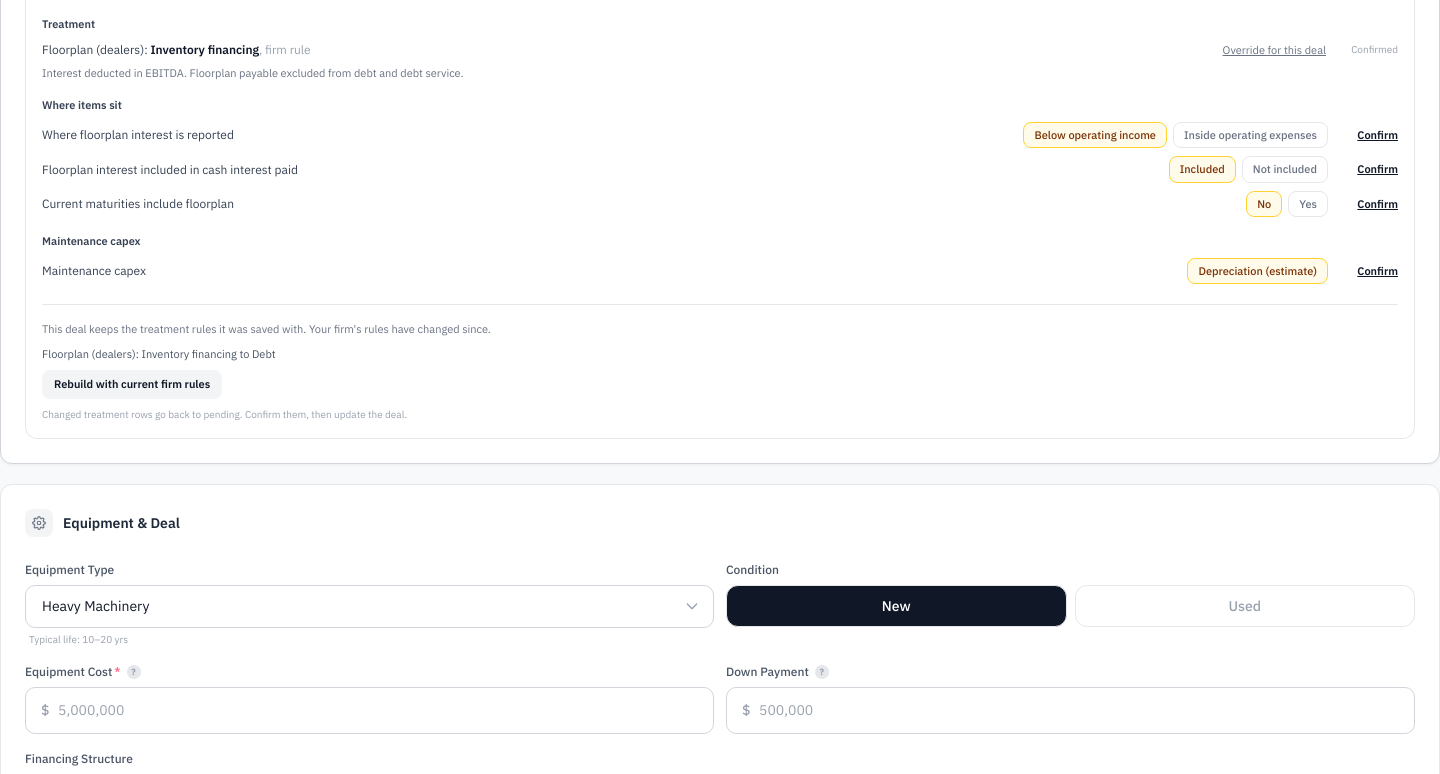
Test: judgments on the statement build › firm rules changed since the deal was saved › rebuild takes the new rules and puts the changed row back to pending
The image size is (1440, 774).
(page scrolled)
Click the button "Rebuild with current firm rules".
click(132, 385)  # box [42,370,222,399]
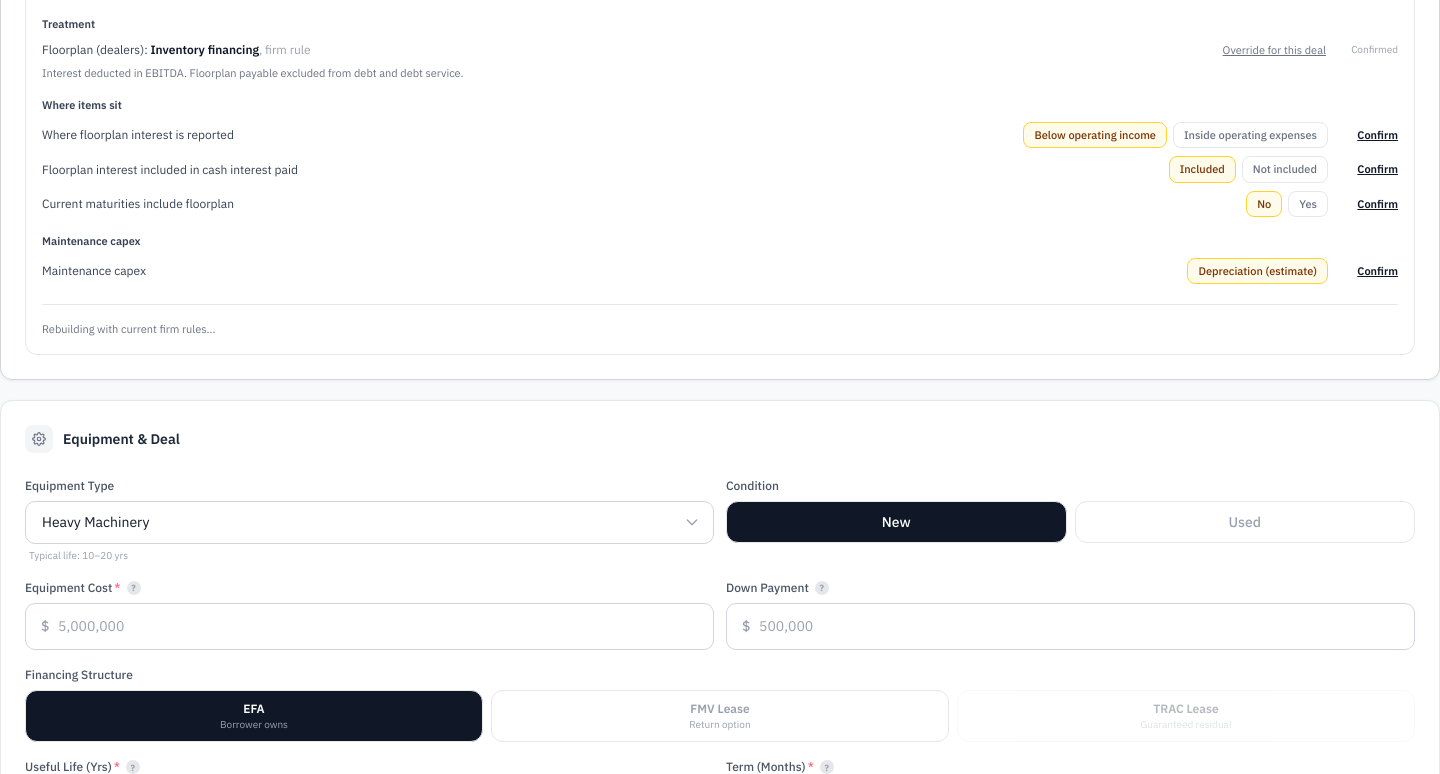
Now the element with test id "rules-changed" is gone
Now the text "Rebuilding with current firm rules..." is shown, box [42,304,1398,338]
